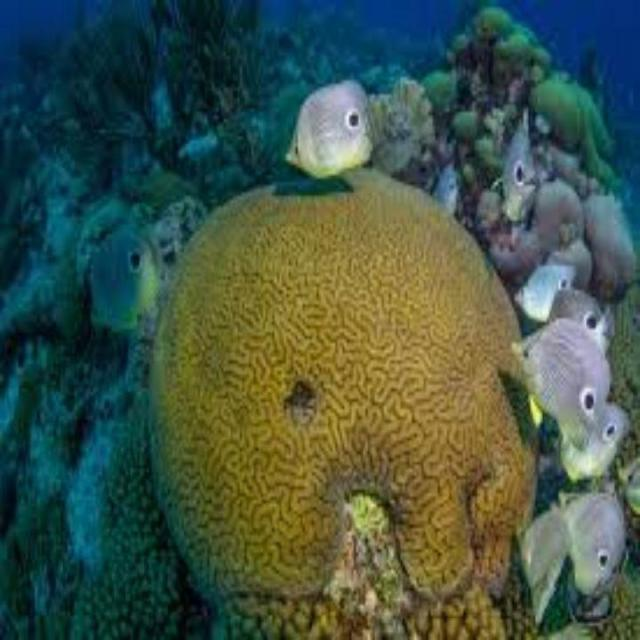Healthy Coral: (116, 168, 562, 613)
